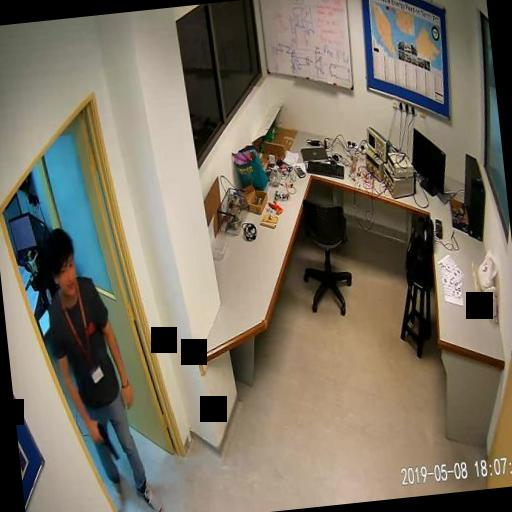Handgun: (94, 420, 118, 462)
